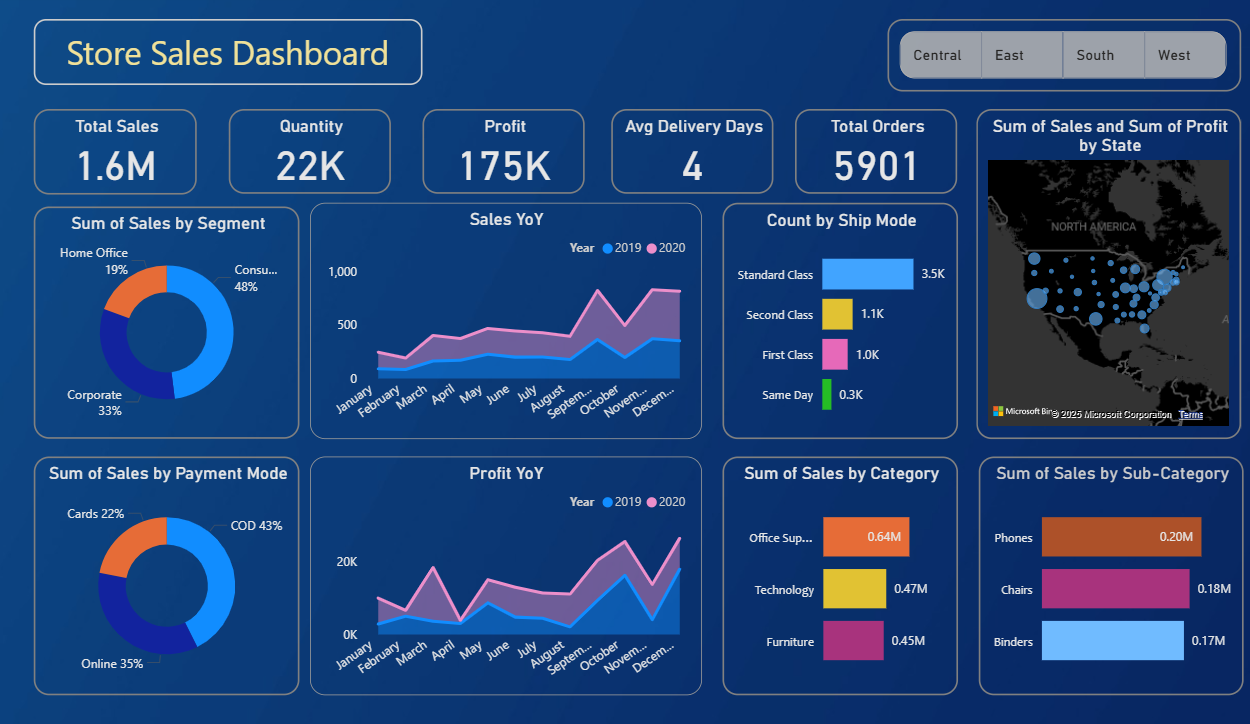

The page's visual inventory and layout, read from the dashboard file:
{"tool":"powerbi","page":{"name":"Super_Store","canvas":[1280,720],"ordinal":0},"visuals":[{"type":"clusteredBarChart","fields":{"Category":["SuperStore_Sales_Dataset.Category"],"Y":["Sum(SuperStore_Sales_Dataset.Sales)"]},"box":[758.9,454.4,231.1,234.4],"z":0},{"type":"clusteredBarChart","fields":{"Category":["SuperStore_Sales_Dataset.Sub-Category"],"Y":["Sum(SuperStore_Sales_Dataset.Sales)"]},"box":[1010,454.4,260,234.4],"z":1000},{"type":"barChart","title":"Count by Ship Mode","fields":{"Category":["SuperStore_Sales_Dataset.Ship Mode"],"Y":["CountNonNull(SuperStore_Sales_Dataset.Sales)"]},"box":[758.9,204.4,231.1,232.2],"z":2000},{"type":"stackedAreaChart","title":"Sales YoY","fields":{"Category":["SuperStore_Sales_Dataset.Order Date.Variation.Date Hierarchy.Month"],"Y":["CountNonNull(SuperStore_Sales_Dataset.Ship Date)"],"Series":["SuperStore_Sales_Dataset.Order Date.Variation.Date Hierarchy.Year"]},"box":[353.3,204.4,384.4,232.2],"z":3000},{"type":"stackedAreaChart","title":"Profit YoY","fields":{"Category":["SuperStore_Sales_Dataset.Order Date.Variation.Date Hierarchy.Month"],"Series":["SuperStore_Sales_Dataset.Order Date.Variation.Date Hierarchy.Year"],"Y":["Sum(SuperStore_Sales_Dataset.Profit)"]},"box":[353.3,454.4,384.4,234.4],"z":4000},{"type":"map","fields":{"Category":["SuperStore_Sales_Dataset.State"],"Size":["Sum(SuperStore_Sales_Dataset.Sales)"]},"box":[1007.5,112.5,260,323.8],"z":5000},{"type":"donutChart","fields":{"Category":["SuperStore_Sales_Dataset.Segment"],"Y":["Sum(SuperStore_Sales_Dataset.Sales)"]},"box":[82.2,208.9,261.1,227.8],"z":6000},{"type":"donutChart","fields":{"Y":["Sum(SuperStore_Sales_Dataset.Sales)"],"Category":["SuperStore_Sales_Dataset.Payment Mode"]},"box":[82.2,454.4,261.1,234.4],"z":7000},{"type":"advancedSlicerVisual","fields":{"Values":["SuperStore_Sales_Dataset.Region"]},"box":[920,25,347.5,71.2],"z":8000},{"type":"textbox","box":[82.2,24.5,381.6,65],"z":9000},{"type":"card","title":"Total Sales","fields":{"Values":["Sum(SuperStore_Sales_Dataset.Sales)"]},"box":[82.5,112.5,160,83.8],"z":10000},{"type":"card","title":"Quantity","fields":{"Values":["Sum(SuperStore_Sales_Dataset.Quantity)"]},"box":[273.6,112.9,159.5,83.4],"z":11000},{"type":"card","title":"Profit","fields":{"Values":["Sum(SuperStore_Sales_Dataset.Profit)"]},"box":[463.8,112.9,159.5,83.4],"z":12000},{"type":"card","title":"Avg Delivery Days","fields":{"Values":["Avg(SuperStore_Sales_Dataset.AvgDilevery)"]},"box":[649.1,112.9,159.5,83.4],"z":13000},{"type":"card","title":"Total Orders","fields":{"Values":["CountNonNull(SuperStore_Sales_Dataset.Order ID)"]},"box":[829.5,112.9,159.5,83.4],"z":14000}]}

Visuals, with their boxes in screenshot pixels (x1, y1, x2, y2), scaled from the page's 1280x720 canvas onto the 1250x724 screenshot:
clusteredBarChart - SuperStore_Sales_Dataset.Category x Sum(SuperStore_Sales_Dataset.Sales): bbox=[741, 457, 967, 693]
clusteredBarChart - SuperStore_Sales_Dataset.Sub-Category x Sum(SuperStore_Sales_Dataset.Sales): bbox=[986, 457, 1240, 693]
"Count by Ship Mode" barChart: bbox=[741, 206, 967, 439]
"Sales YoY" stackedAreaChart: bbox=[345, 206, 720, 439]
"Profit YoY" stackedAreaChart: bbox=[345, 457, 720, 693]
map - SuperStore_Sales_Dataset.State x Sum(SuperStore_Sales_Dataset.Sales): bbox=[984, 113, 1238, 439]
donutChart - SuperStore_Sales_Dataset.Segment x Sum(SuperStore_Sales_Dataset.Sales): bbox=[80, 210, 335, 439]
donutChart - Sum(SuperStore_Sales_Dataset.Sales) x SuperStore_Sales_Dataset.Payment Mode: bbox=[80, 457, 335, 693]
advancedSlicerVisual - SuperStore_Sales_Dataset.Region: bbox=[898, 25, 1238, 97]
textbox: bbox=[80, 25, 453, 90]
"Total Sales" card: bbox=[81, 113, 237, 197]
"Quantity" card: bbox=[267, 114, 423, 197]
"Profit" card: bbox=[453, 114, 609, 197]
"Avg Delivery Days" card: bbox=[634, 114, 790, 197]
"Total Orders" card: bbox=[810, 114, 966, 197]
